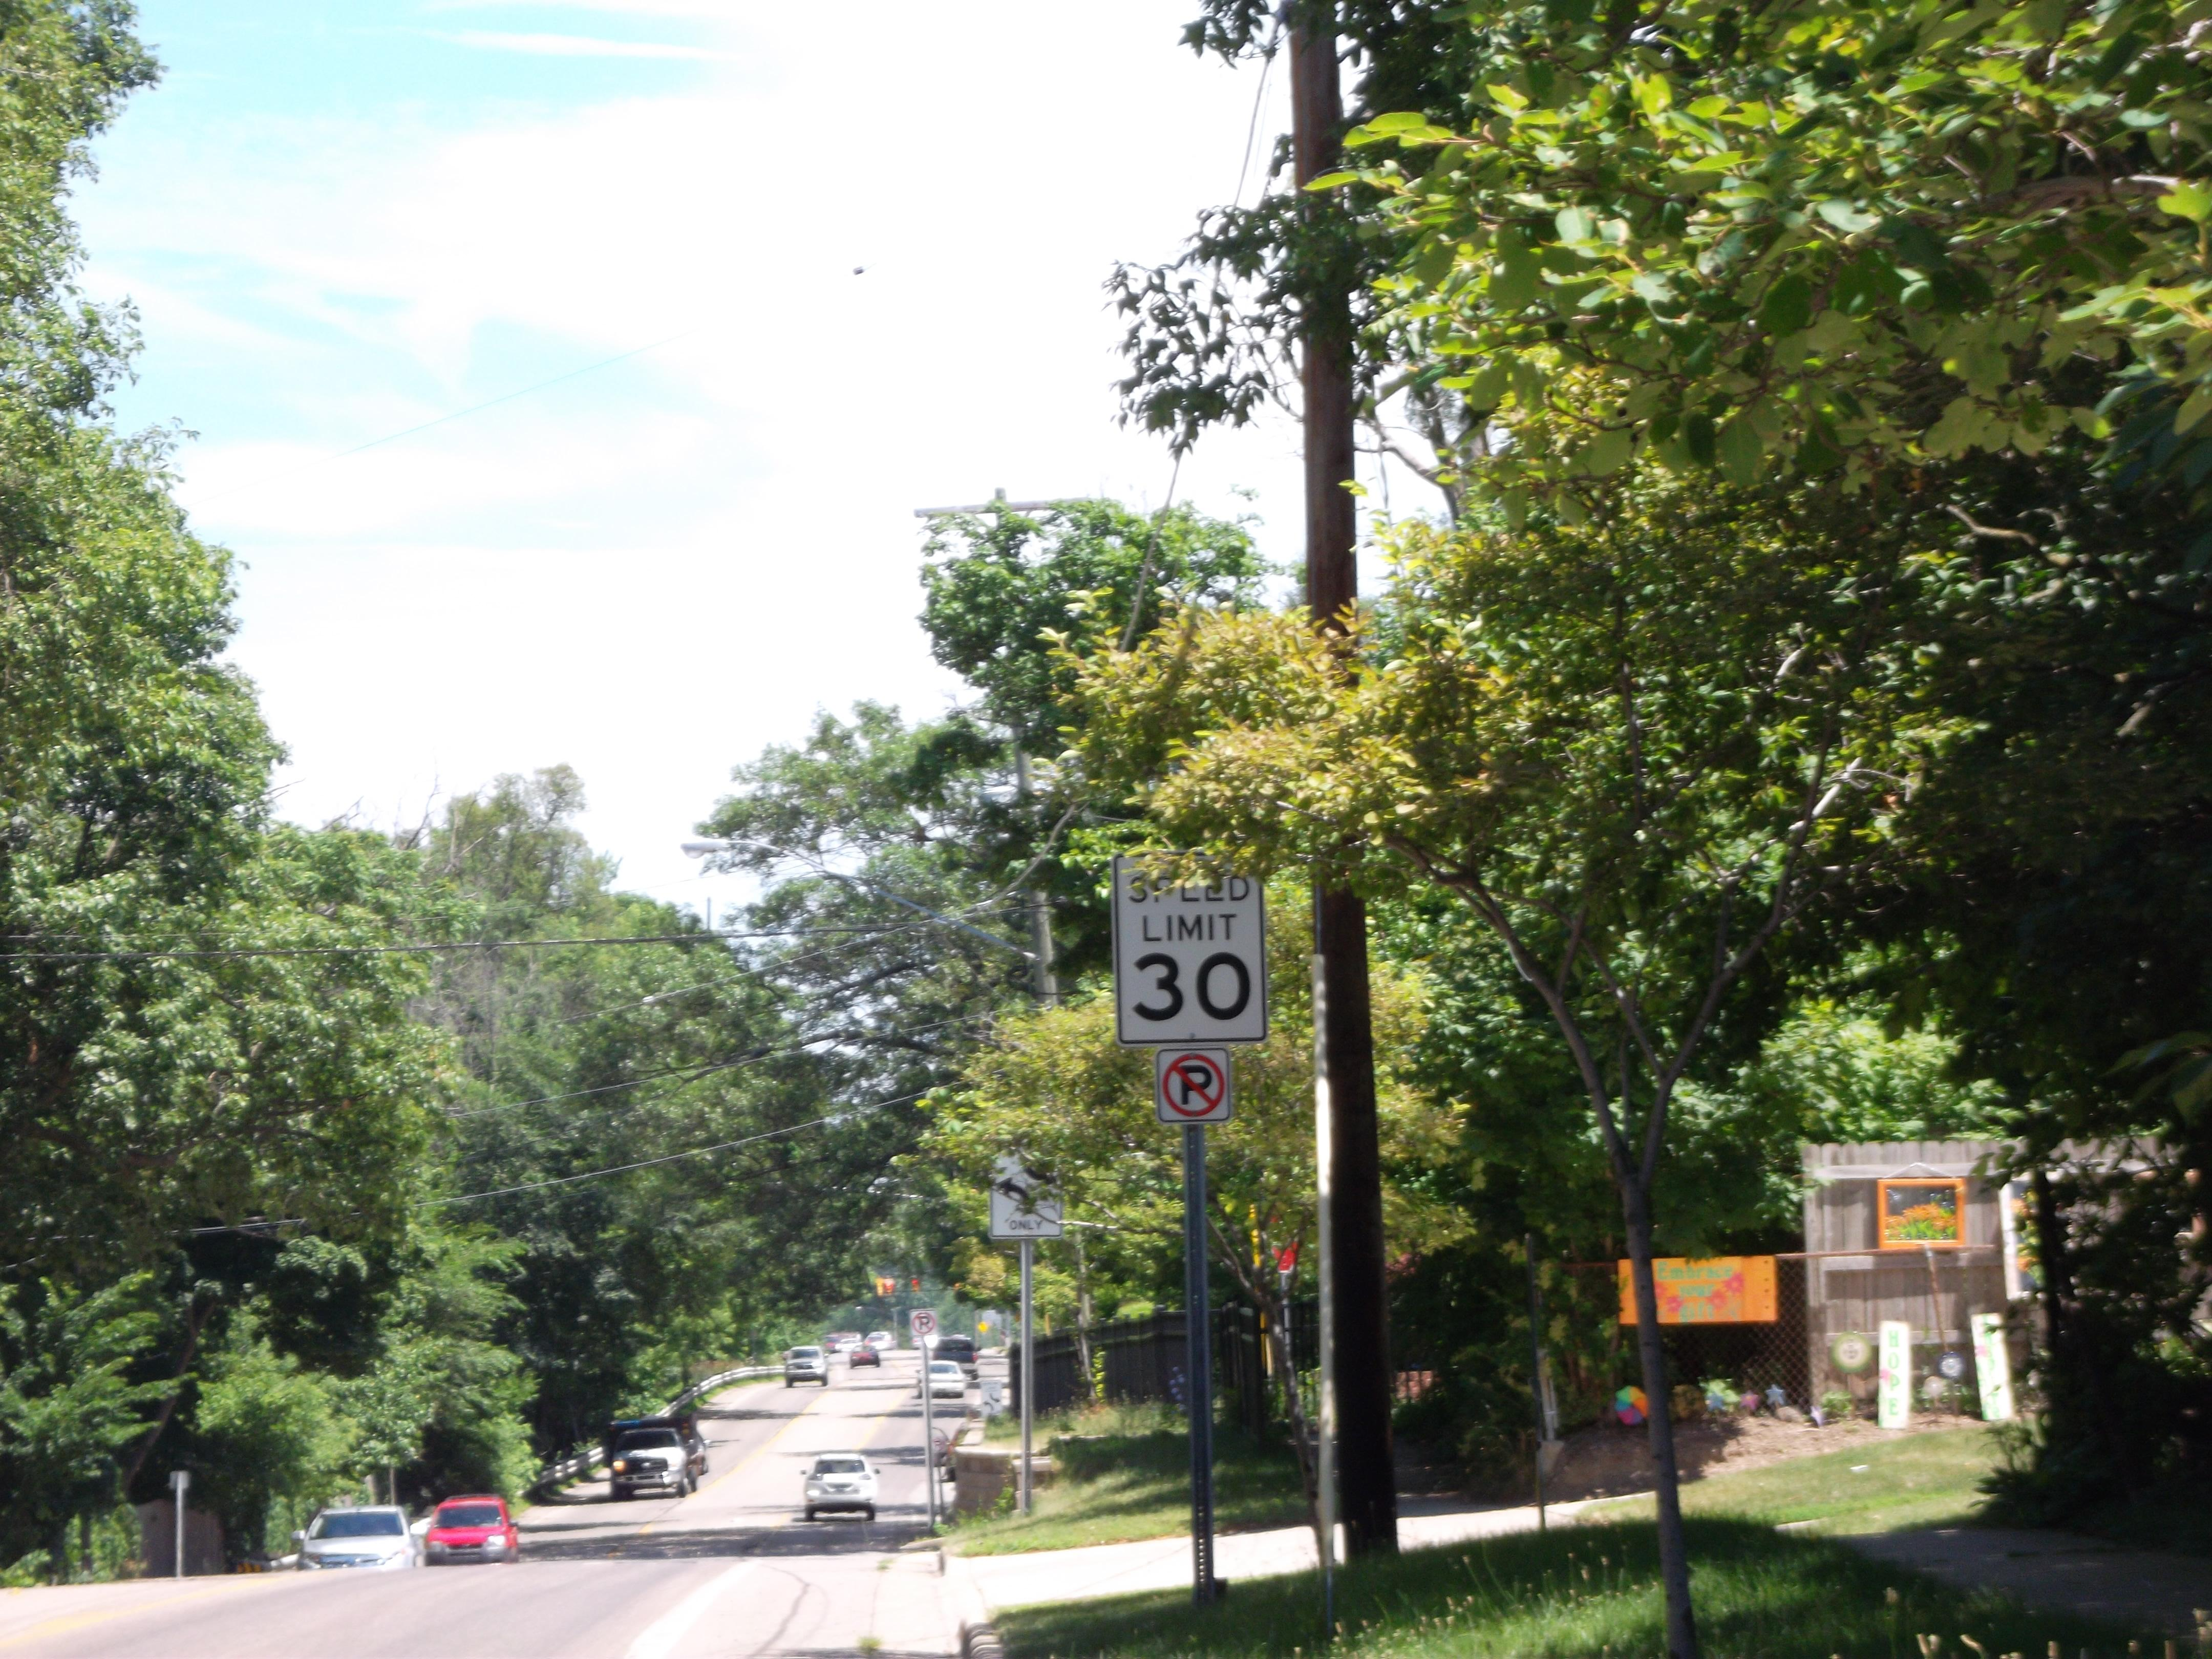regulatory: (1104, 836, 1273, 1053), (982, 1138, 1078, 1258)
